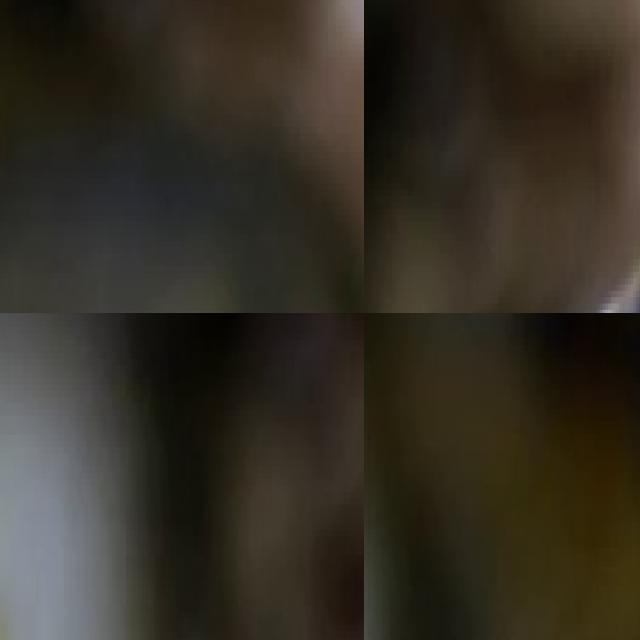fish: (0, 0, 364, 313), (364, 313, 640, 640)
